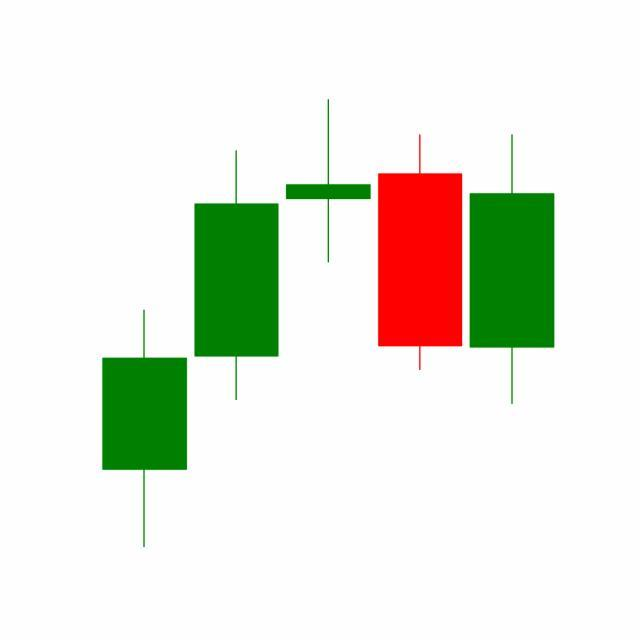Evening Star: (190, 99, 467, 405)
